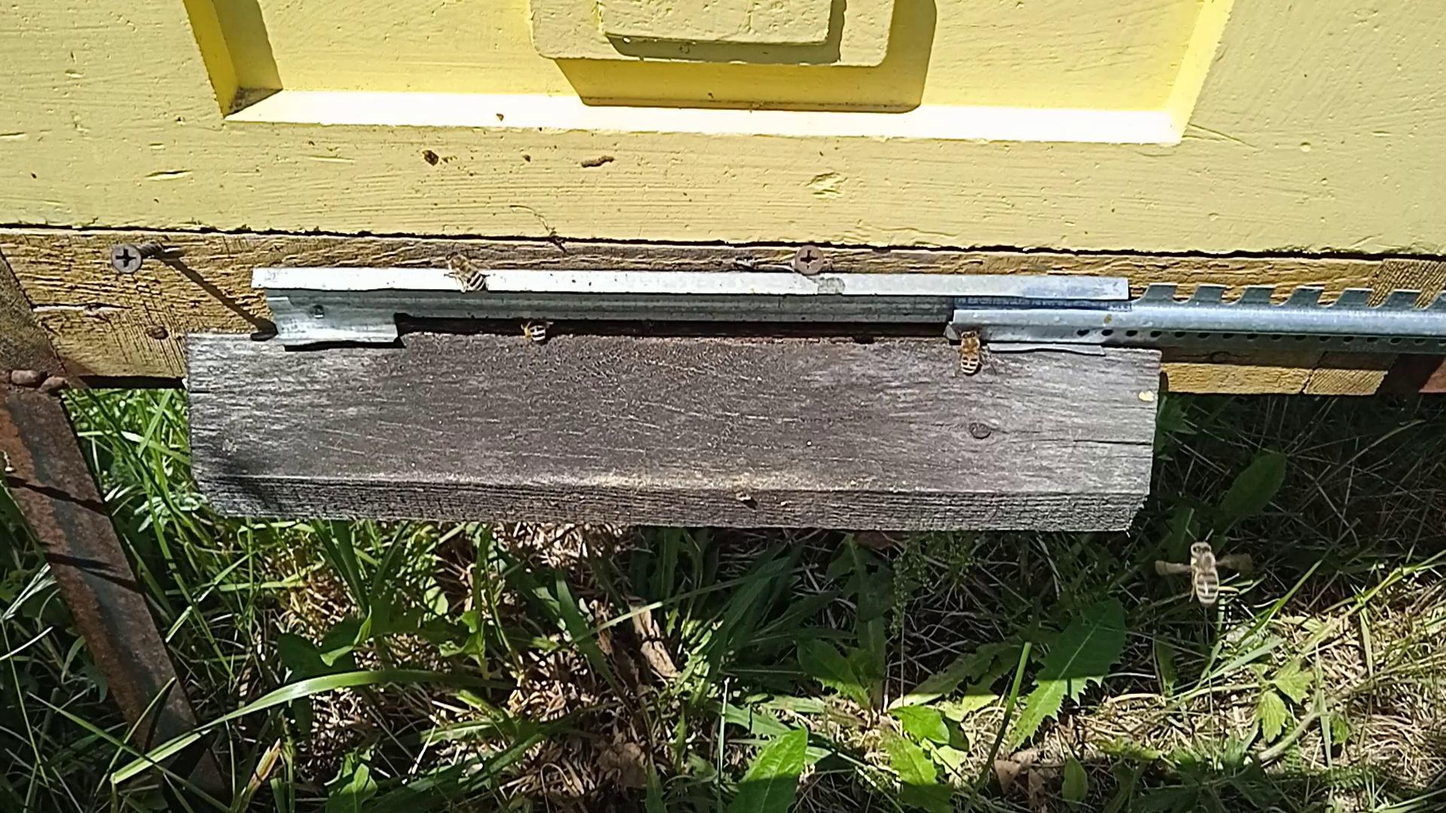worker-bee: (1189, 538, 1222, 607), (442, 249, 487, 292), (956, 329, 987, 376), (519, 318, 552, 345)
